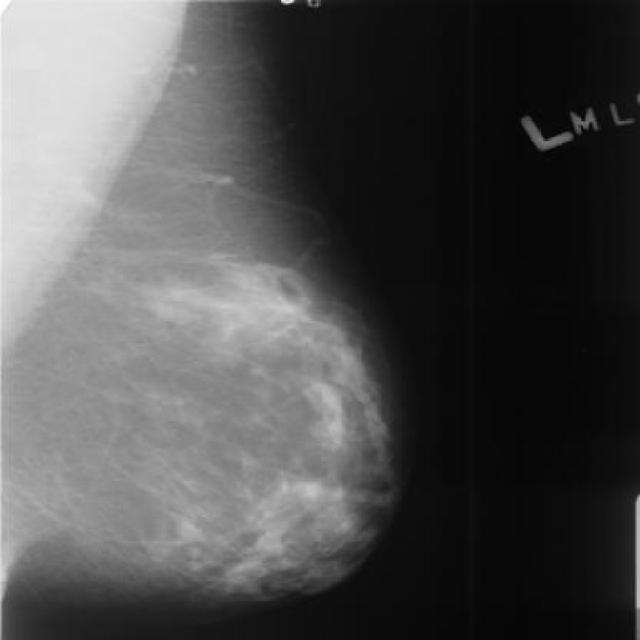tumor: (171, 244, 380, 498)
